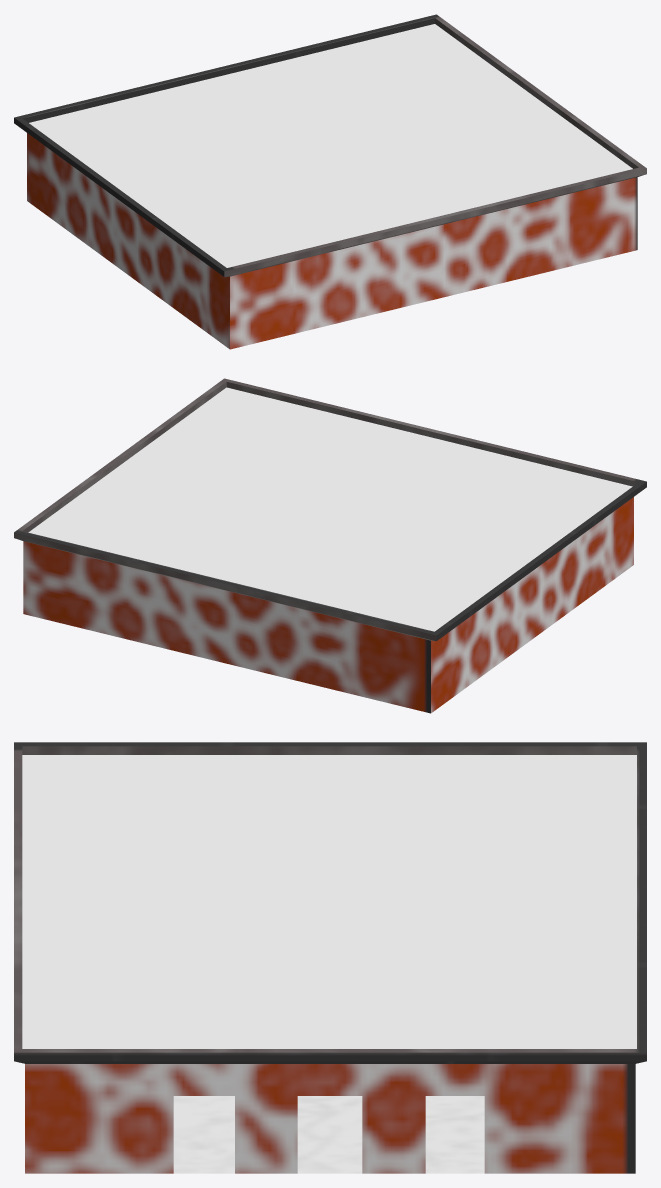
The model's file is shop2_3.fbx.
3 renders of one model, top to bottom at view 1: azimuth 30°, elevation 25°; view 2: azimuth 150°, elevation 25°; view 3: azimuth 270°, elevation 25°, orthographic. The views are drawn at different scales.
Visible parts, largest first — view 1: Cube; view 2: Cube; view 3: Cube.
Part boxes in pixels (box(x1,y1,x2,y2)): Cube: box(14, 14, 646, 349); Cube: box(14, 378, 646, 713); Cube: box(14, 742, 646, 1173).
Bounding box in the file's own units: 38407 × 7211 × 33109.
